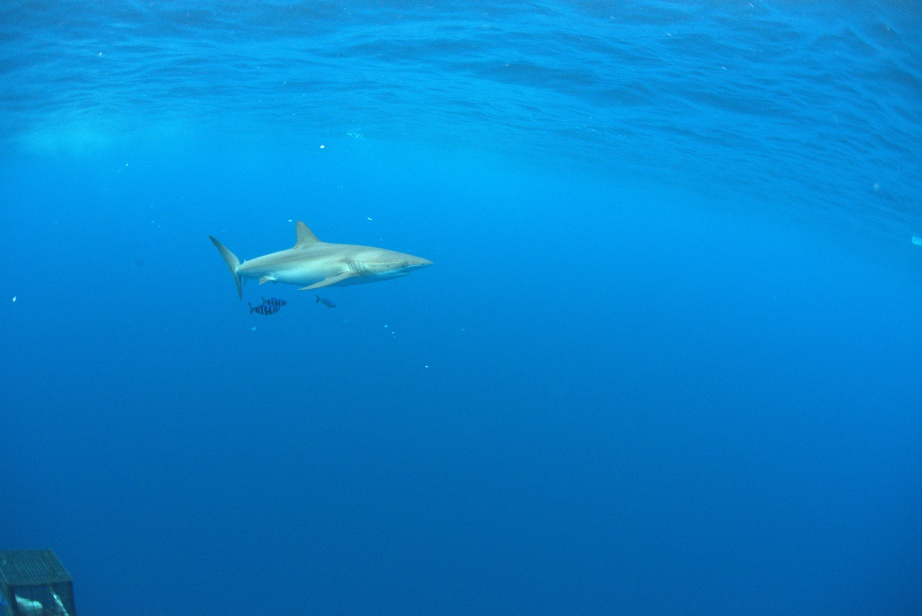Sedoso: (186, 212, 440, 310)
